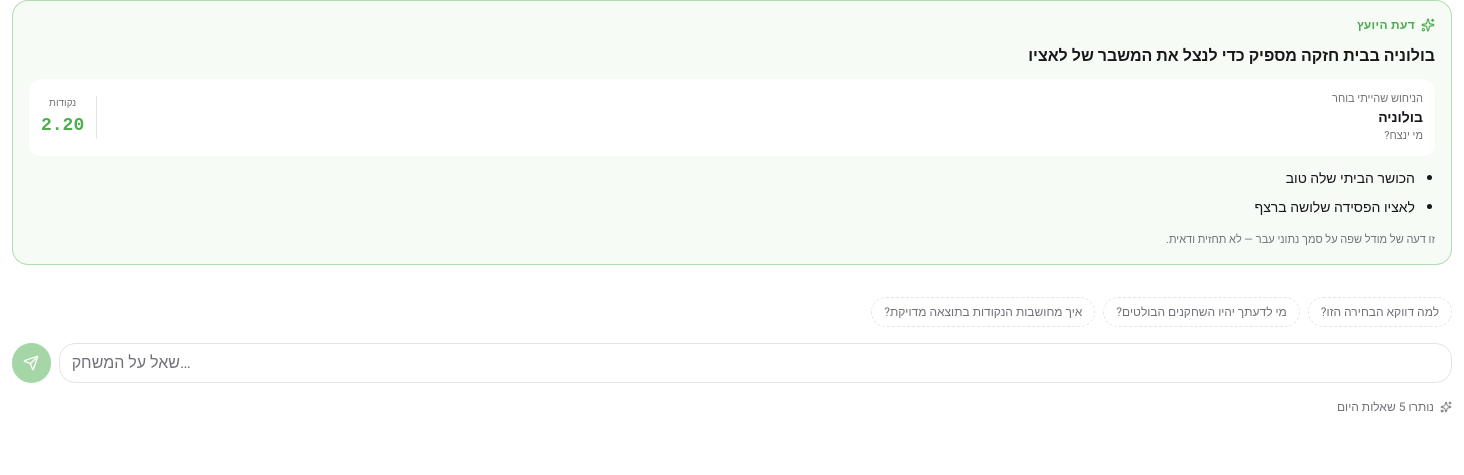
Test: §8.2 יועץ AI › AdvisorPanel › מציג תשובה של היועץ ומעדכן את המונה
Check: the text "בולוניה בבית חזקה מספיק כדי לנצל את המשבר של לאציו" is shown, box 1028,44 -> 1435,68
Click the button "למה דווקא הבחירה הזו?". click: (1380, 312)
box: 1308,297 -> 1452,327
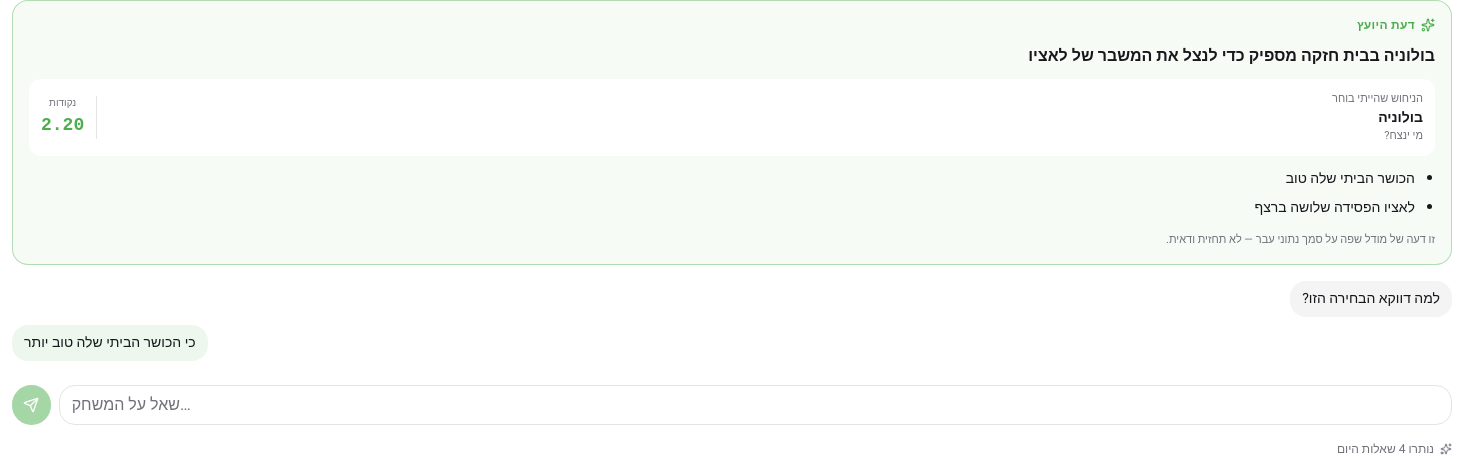
Check: the text "כי הכושר הביתי שלה טוב יותר" is shown, box 12,325 -> 208,361
Check: the text "נותרו 4 שאלות היום" is shown, box 1337,440 -> 1452,458
